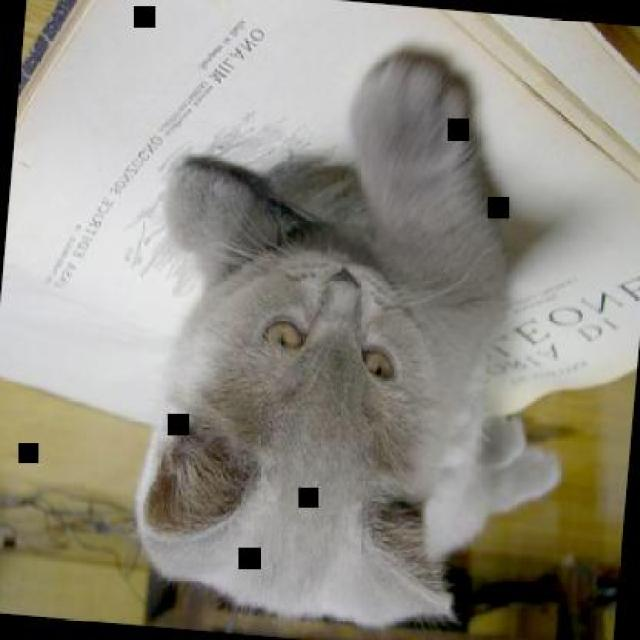cat: (127, 32, 596, 638)
